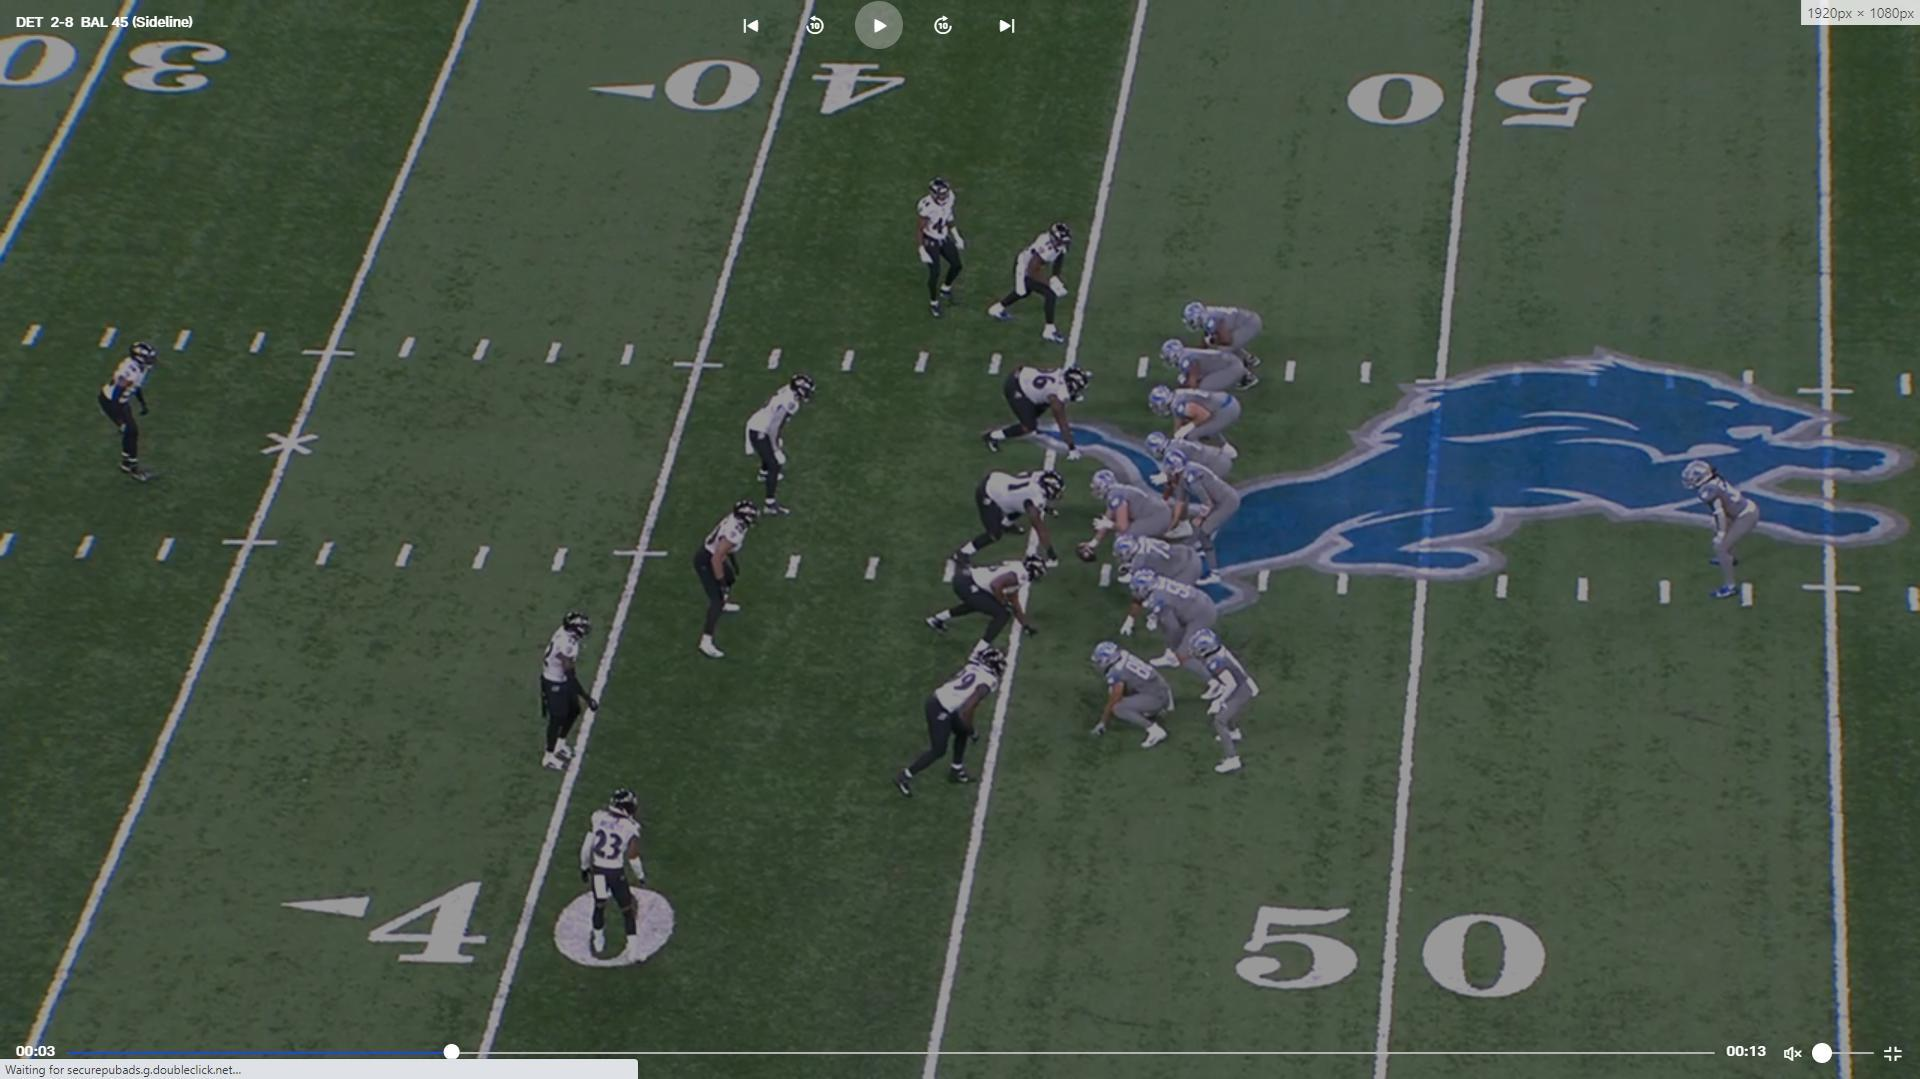player: (888, 641, 1003, 801), (1182, 622, 1267, 784), (581, 788, 653, 974), (1678, 455, 1759, 611), (990, 220, 1084, 351), (686, 501, 754, 670), (933, 555, 1055, 649), (1111, 530, 1209, 645), (982, 362, 1096, 460), (750, 372, 823, 524), (962, 468, 1071, 569), (1141, 427, 1236, 541), (543, 605, 607, 773), (1077, 470, 1173, 582), (1084, 640, 1174, 756), (1131, 568, 1222, 674), (913, 173, 972, 327), (1159, 451, 1232, 573), (101, 338, 160, 487), (1184, 292, 1274, 386), (1147, 383, 1241, 466), (1158, 339, 1256, 400)
